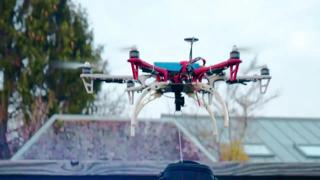UAV: (57, 37, 272, 138)
